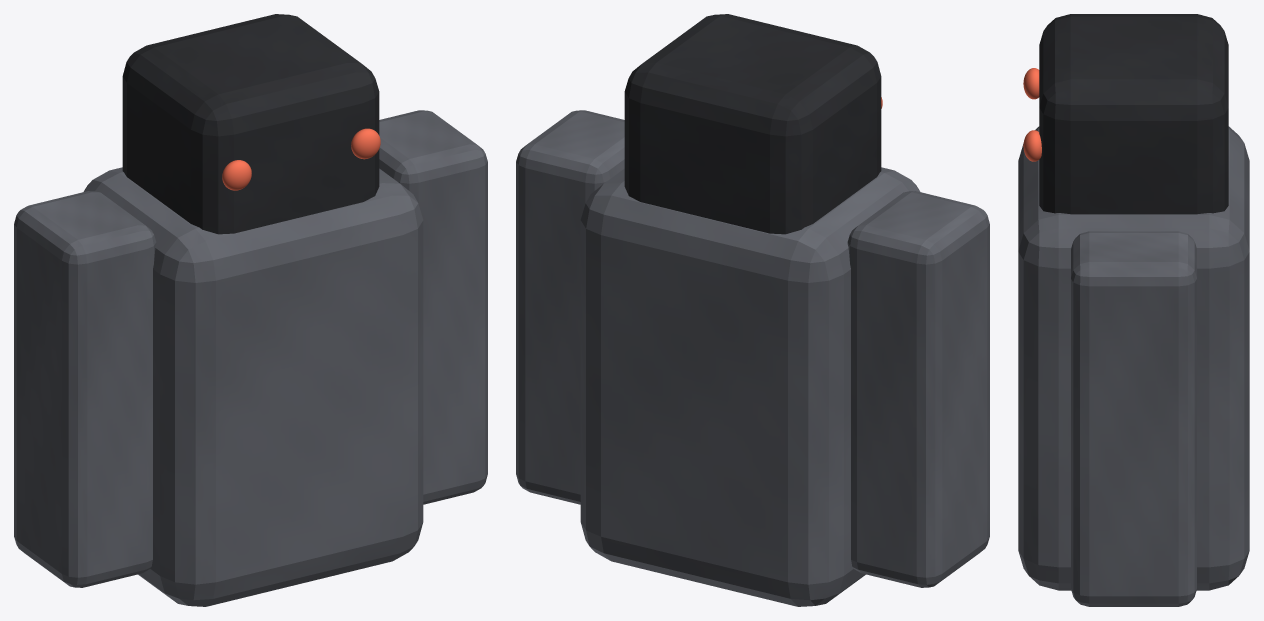
File: monster_Golem.glb
The picture shows the model from 3 angles, left to right: view 1: azimuth 30°, elevation 25°; view 2: azimuth 150°, elevation 25°; view 3: azimuth 270°, elevation 25°; orthographic projection.
Parts seen in each view (by area): view 1: Body, Arm, Head, Arm.001, Eye, Eye.001; view 2: Body, Arm, Head, Arm.001; view 3: Arm.001, Body, Head, Eye.001, Eye.
Boxes of the visible parts, x1,y1,x2,y2 form: Body: [83, 167, 423, 606]; Arm: [14, 191, 156, 587]; Head: [122, 14, 379, 234]; Arm.001: [379, 110, 487, 504]; Eye: [222, 160, 251, 190]; Eye.001: [351, 128, 380, 159]; Body: [580, 167, 920, 606]; Arm: [847, 191, 989, 587]; Head: [624, 14, 881, 234]; Arm.001: [516, 110, 624, 504]; Arm.001: [1071, 231, 1196, 606]; Body: [1018, 126, 1249, 590]; Head: [1039, 14, 1228, 214]; Eye.001: [1023, 130, 1041, 161]; Eye: [1023, 68, 1039, 99].
Bounding box in the file's own units: 1.84 × 2.07 × 0.88.
Materials: 3 (2 with a texture image).
